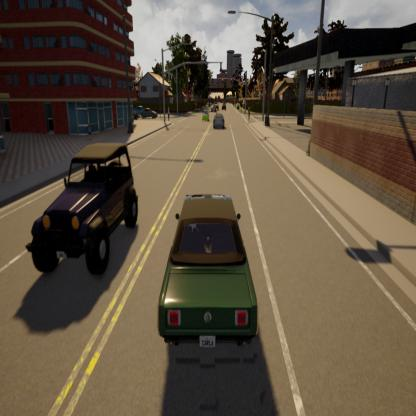Cars: (22, 104, 143, 292), (153, 180, 263, 382), (130, 94, 142, 124), (144, 106, 161, 124), (199, 108, 211, 131), (214, 113, 226, 135), (209, 97, 221, 113), (221, 98, 231, 116)
Pedestrian: (88, 106, 94, 140), (166, 100, 173, 124), (246, 105, 253, 127)
